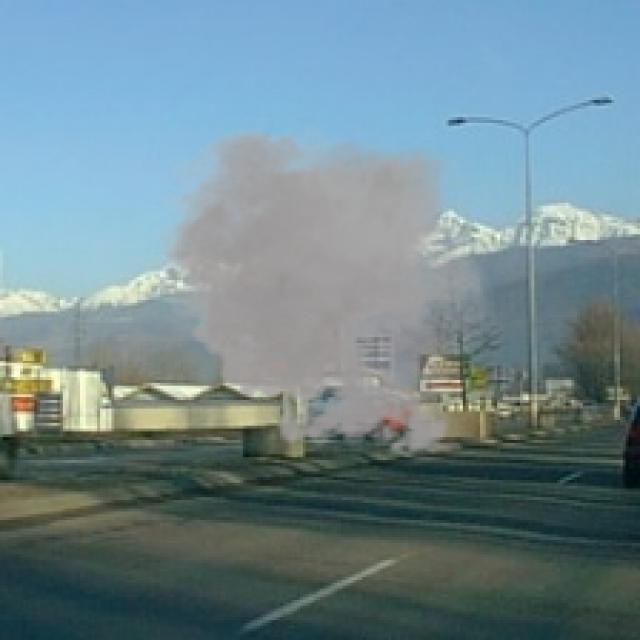Smoke: (145, 117, 506, 466)
